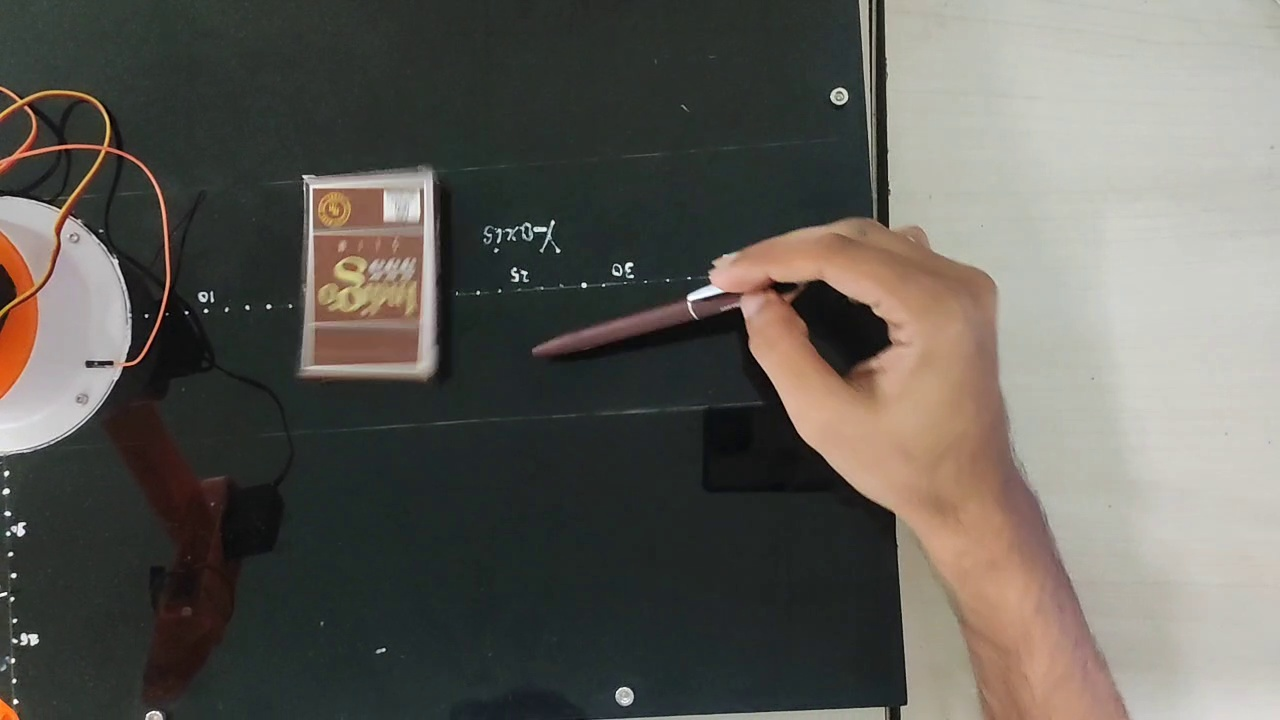BEX: (310, 180, 425, 370)
